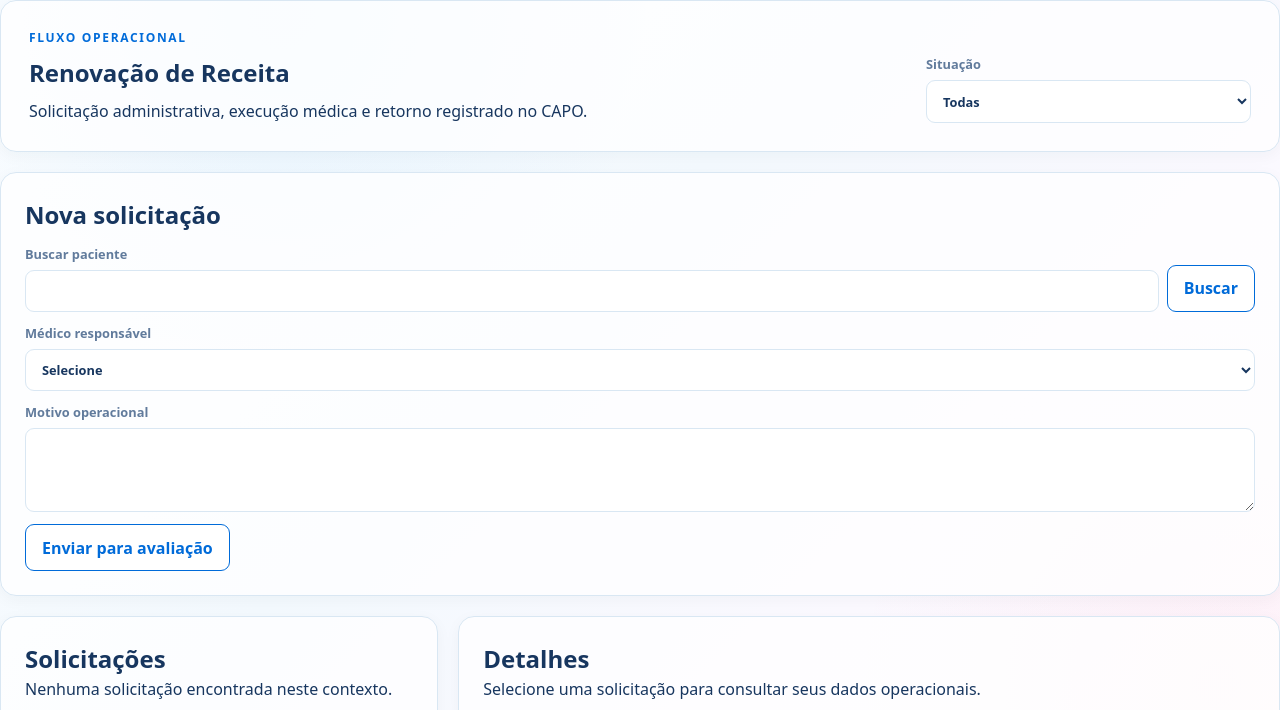
Test: RenewalPrescriptionPage › busca paciente e cria solicitação com médico selecionado
Check: the text "Nenhuma solicitação encontrada neste contexto." is shown, box [25,677,413,701]
Type "Paciente" into the field labelled "Buscar paciente".
click(592, 291); type("Paciente")  # box [25,270,1159,312]
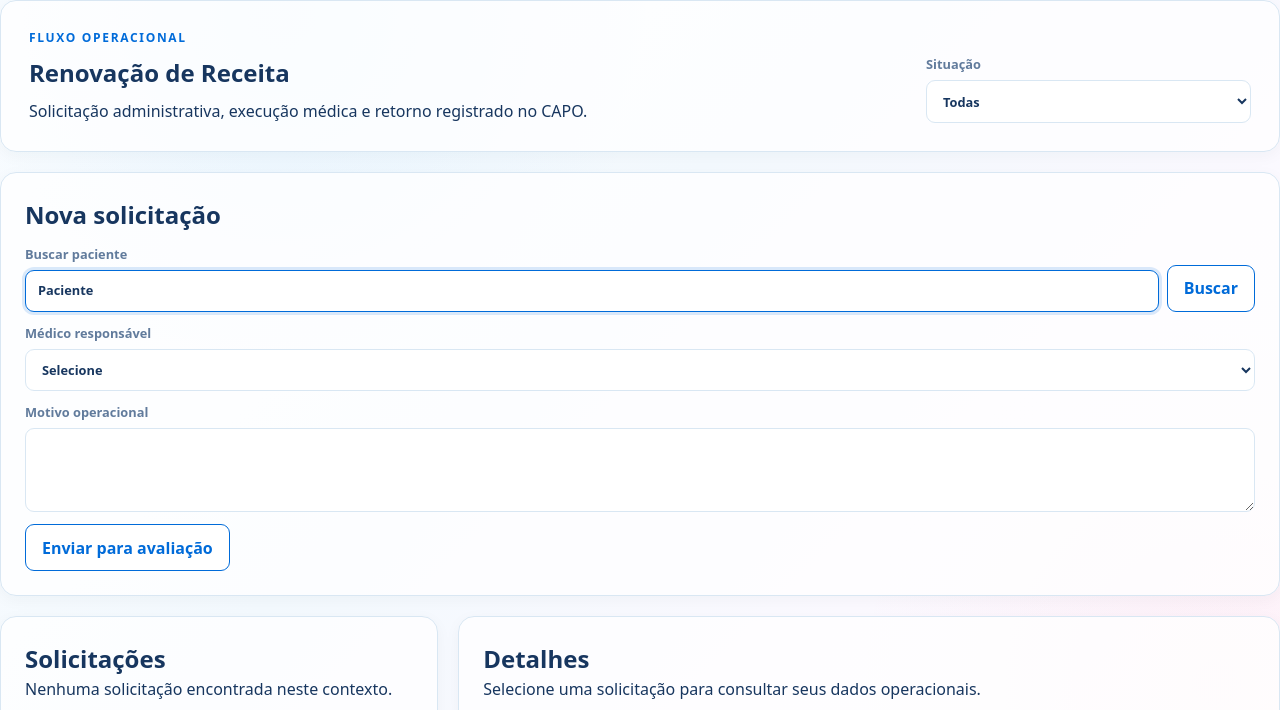
Click the button "Buscar".
click(1211, 288)  # box [1167,265,1255,312]
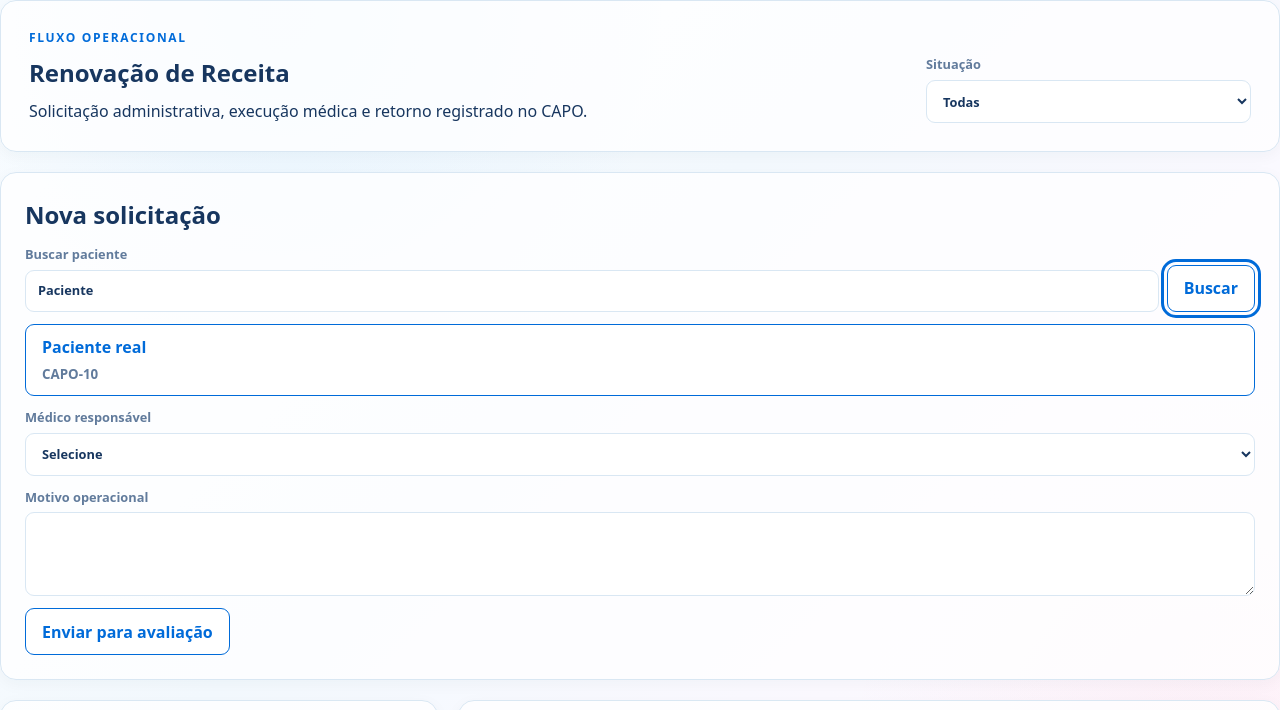
Click the button "Paciente real CAPO-10".
click(94, 347)  # box [25,324,1255,396]
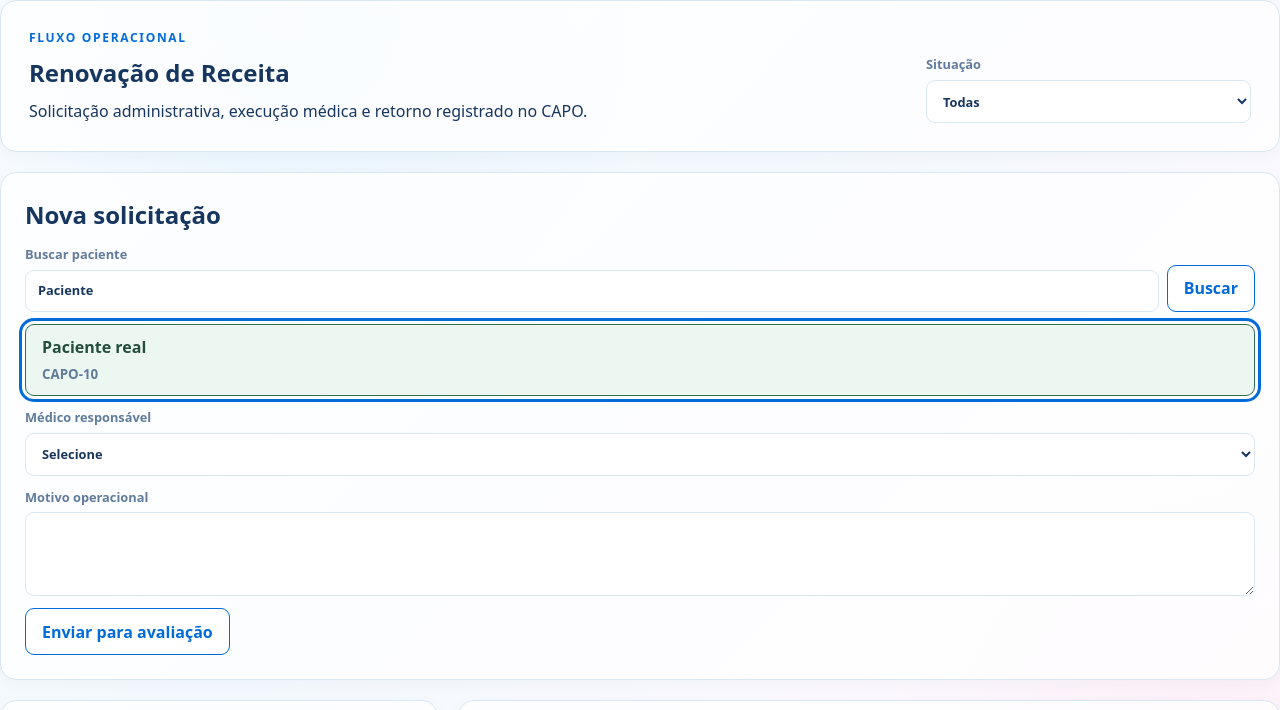
Select "Dr. José Silva · CRM-12345 · sem acesso ativo" in the dropdown labelled "Médico responsável" at (640, 454), box [25,433,1255,476]
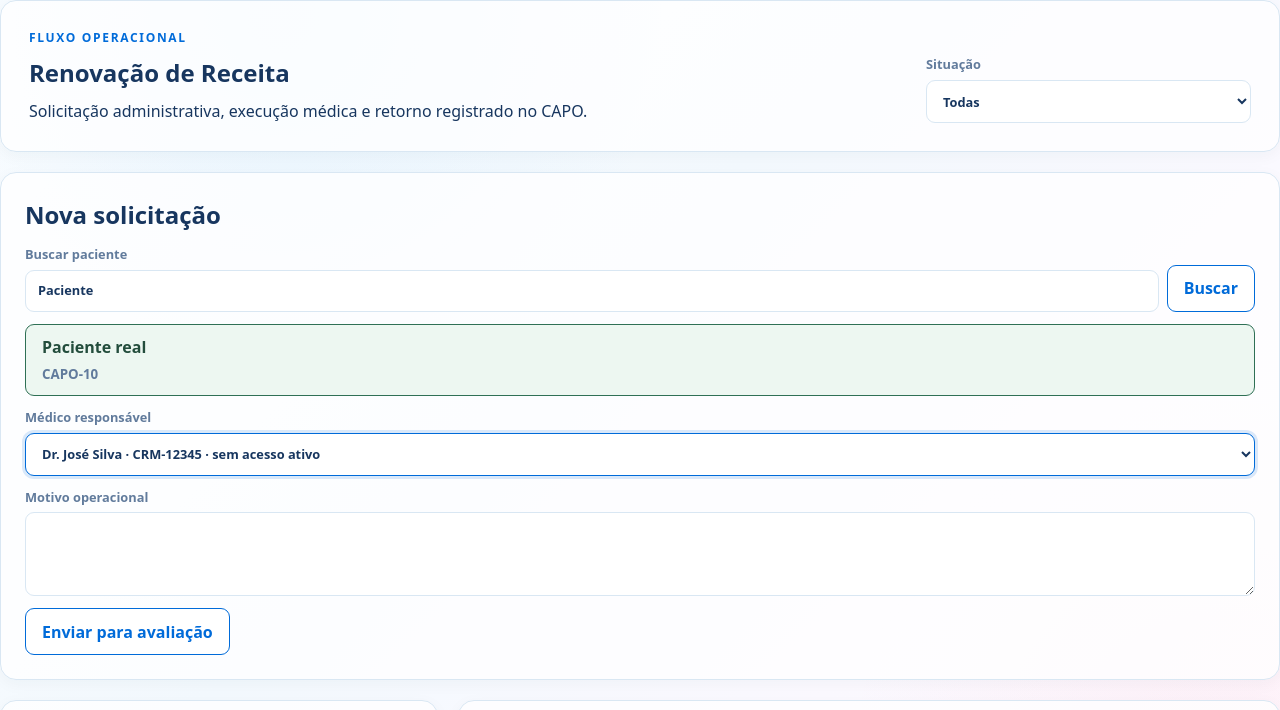
Type "Continuidade de tratamento" into the text box labelled "Motivo operacional".
click(640, 554); type("Continuidade de tratamento")  # box [25,512,1255,596]
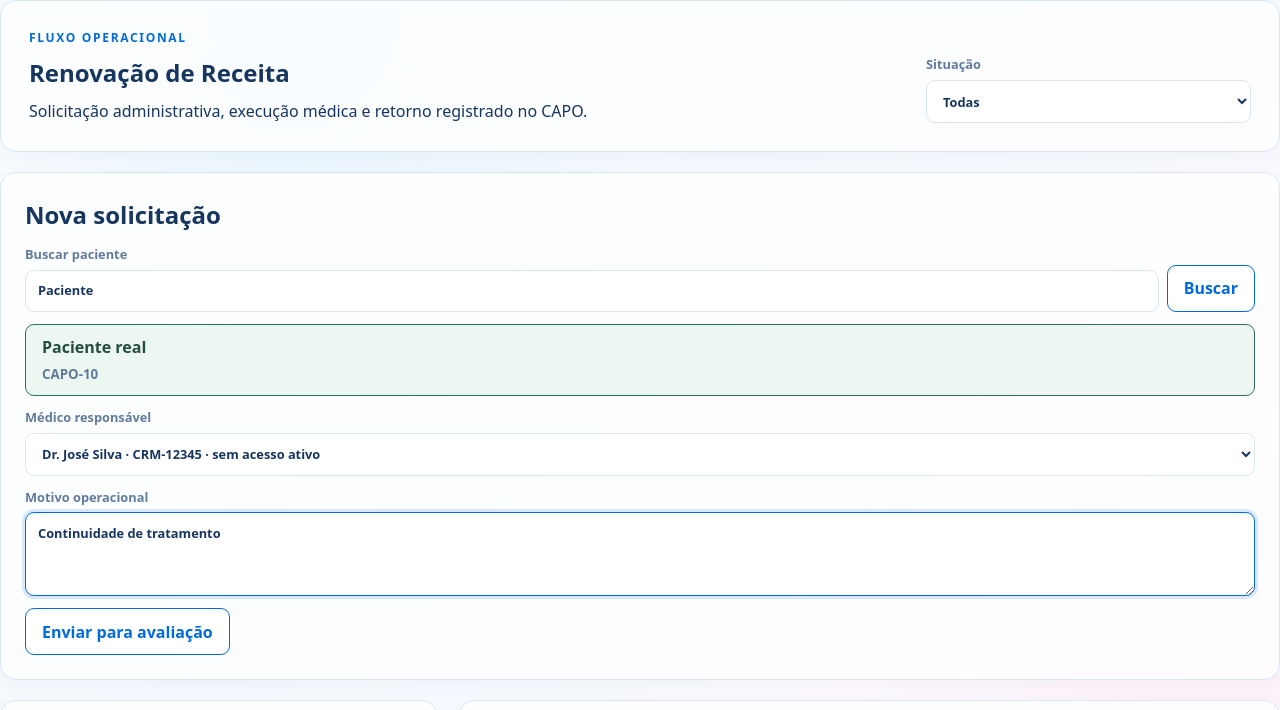
Click the button "Enviar para avaliação".
click(127, 632)  # box [25,608,230,655]
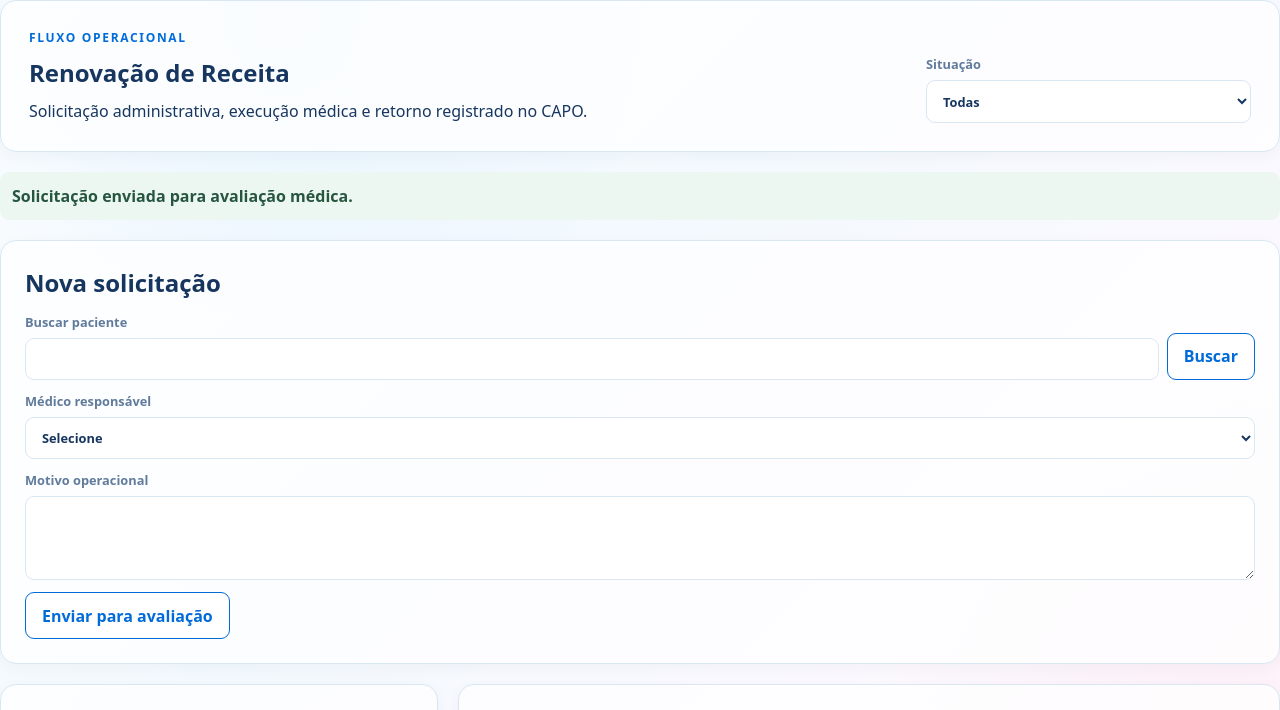
Check: the text "Solicitação enviada para avaliação médica." is shown, box [0,172,1279,220]
